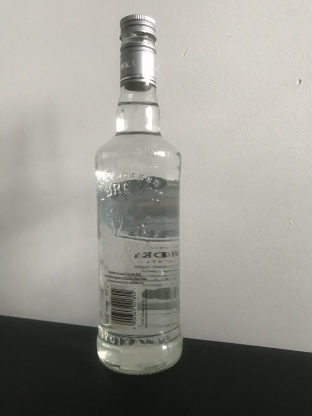nakretka: (118, 12, 158, 91)
